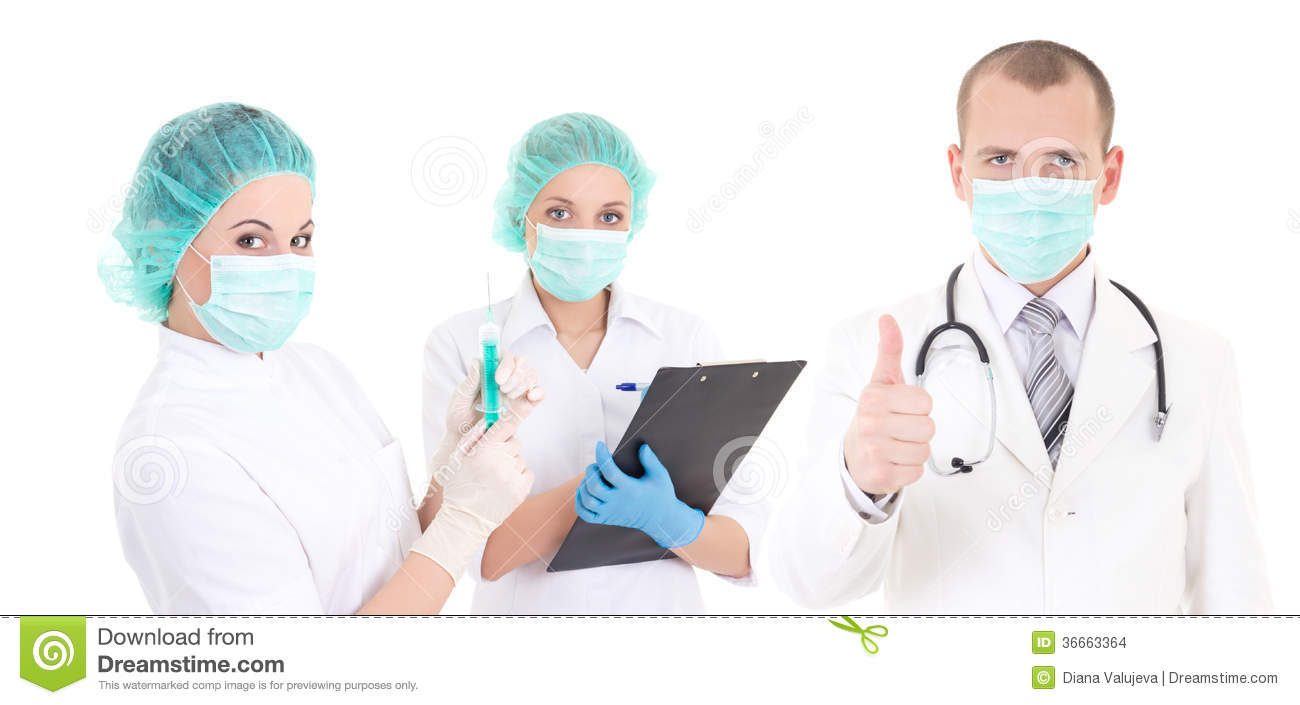mask: (962, 182, 1111, 276), (211, 255, 320, 365), (526, 224, 636, 299)
